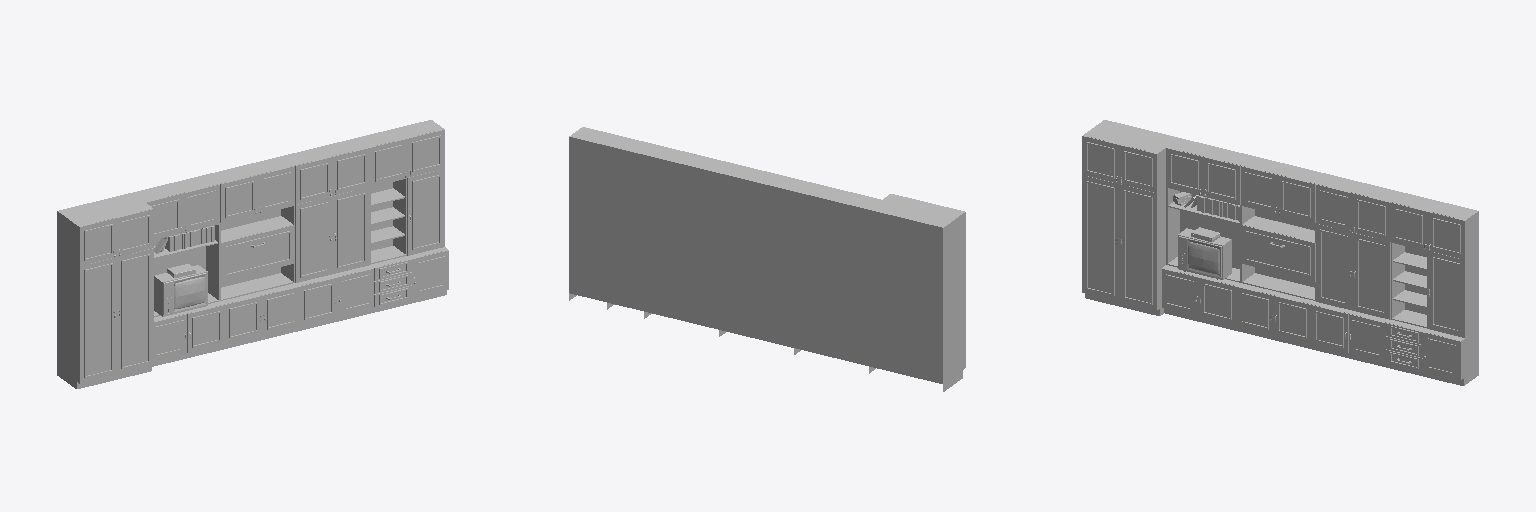
Rendered from cupboard_mirrored.obj.
The picture shows the model from 3 angles: view 1: azimuth 30°, elevation 25°; view 2: azimuth 150°, elevation 25°; view 3: azimuth 330°, elevation 25°; orthographic projection.
Parts seen in each view (by area): view 1: Box053, Box075, Box058, Box070, Box069, Box054, Box041, Box042, Box063, Box047, Box045, Box111 (+23 smaller); view 2: Box041, Box045, Box067, Box063, Box042, Box044, Box066, Box062, Box072, Box061, Box065, Box043 (+5 smaller); view 3: Box053, Box075, Box058, Box054, Box069, Box070, Box045, Box063, Box042, Box047, Box114, Box084 (+25 smaller).
Boxes of the visible parts, <box> form: Box053: <box>79,257,116,383</box>; Box075: <box>117,248,153,373</box>; Box058: <box>407,169,444,255</box>; Box070: <box>295,196,332,282</box>; Box069: <box>220,225,294,281</box>; Box054: <box>333,187,369,273</box>; Box041: <box>57,250,78,382</box>; Box042: <box>57,193,153,265</box>; Box063: <box>220,205,294,300</box>; Box047: <box>370,178,406,264</box>; Box045: <box>154,224,219,316</box>; Box111: <box>262,286,299,334</box>; Box041: <box>869,249,964,384</box>; Box045: <box>794,231,868,326</box>; Box067: <box>644,194,718,290</box>; Box063: <box>719,212,793,308</box>; Box042: <box>869,194,964,266</box>; Box044: <box>794,182,880,248</box>; Box066: <box>644,145,730,211</box>; Box062: <box>719,164,805,230</box>; Box072: <box>569,176,606,262</box>; Box061: <box>719,291,793,347</box>; Box065: <box>644,272,718,329</box>; Box043: <box>794,309,868,365</box>; Box053: <box>1082,175,1119,301</box>; Box075: <box>1120,184,1157,310</box>; Box058: <box>1428,251,1465,337</box>; Box054: <box>1353,233,1390,319</box>; Box069: <box>1240,225,1315,281</box>; Box070: <box>1316,224,1352,310</box>; Box045: <box>1166,187,1240,282</box>; Box063: <box>1241,205,1315,300</box>; Box042: <box>1083,120,1177,191</box>; Box047: <box>1391,242,1427,328</box>; Box114: <box>1236,286,1273,334</box>; Box084: <box>1278,175,1315,222</box>.
Size of the model in its own units: 5 by 2.1 by 0.5389.